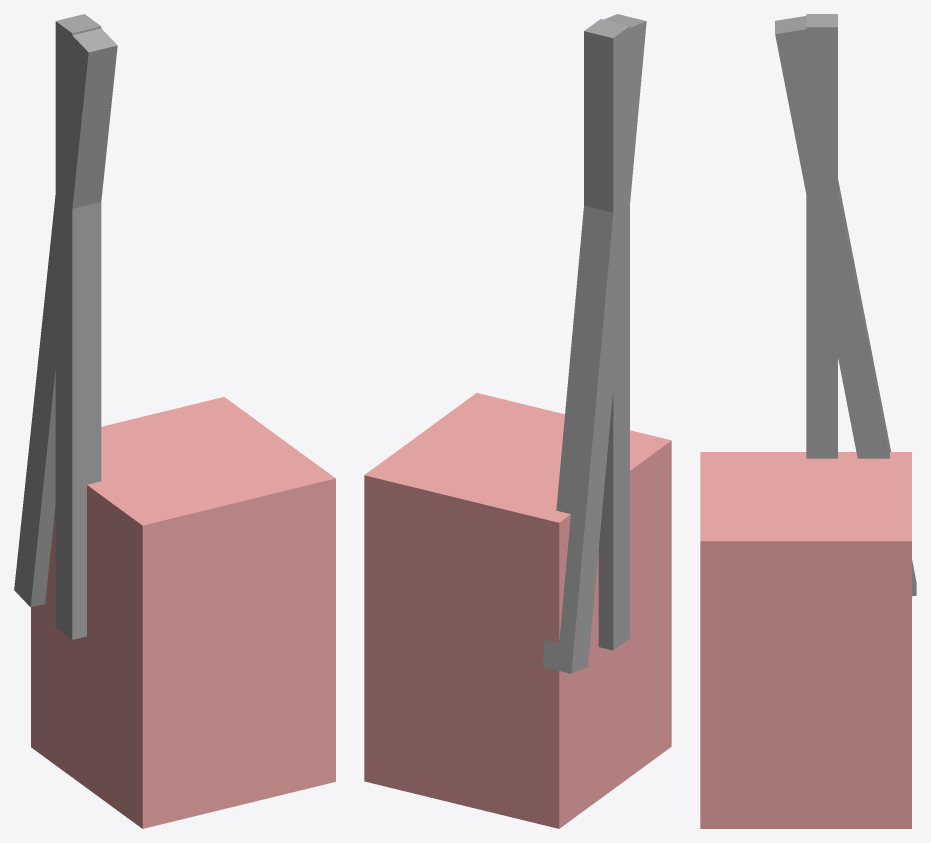
The model's file is LIS_ropen_hook3.dae.
3 renders of one model, left to right at view 1: azimuth 30°, elevation 25°; view 2: azimuth 150°, elevation 25°; view 3: azimuth 270°, elevation 25°, orthographic. The views are drawn at different scales.
Parts seen in each view (by area): view 1: BASE_LINK (×3); view 2: BASE_LINK (×3); view 3: BASE_LINK (×3).
Part boxes in pixels (box(x1,y1,x2,y2)): BASE_LINK (×3): box(14, 14, 335, 828); BASE_LINK (×3): box(364, 14, 671, 828); BASE_LINK (×3): box(700, 14, 916, 828).
Size of the model in its own units: 0.043 by 0.0409 by 0.15.
